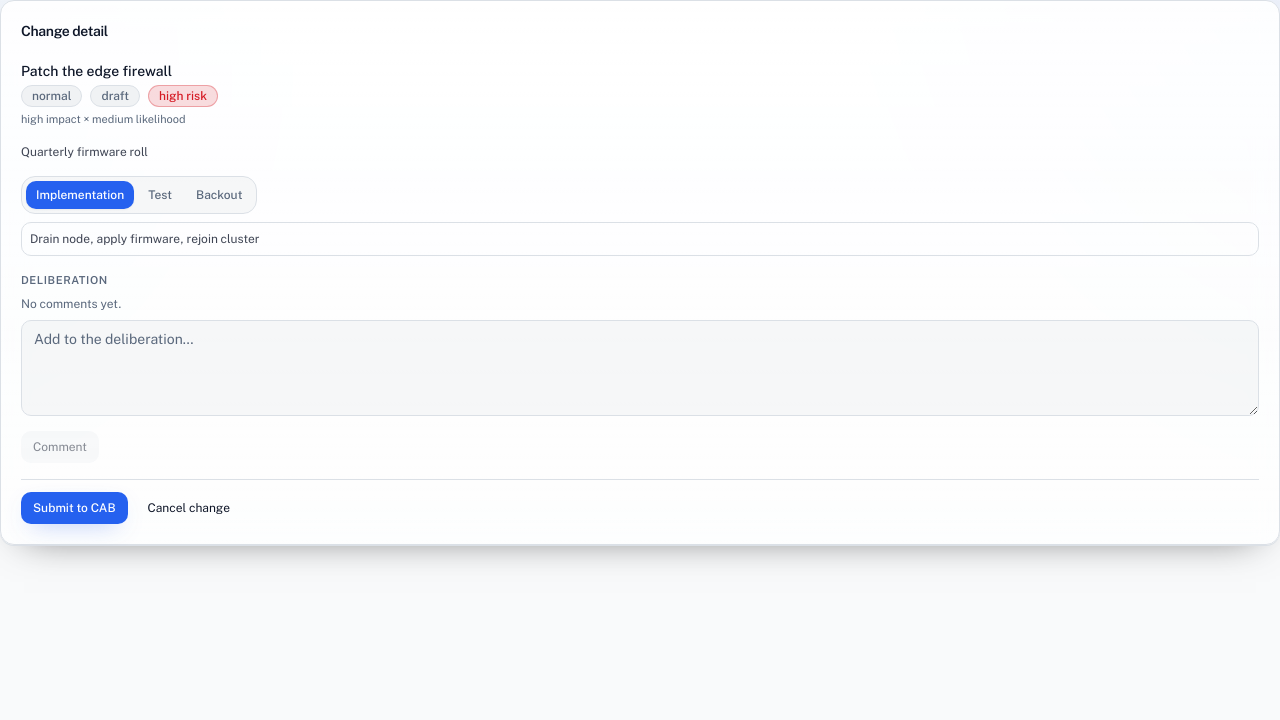
Test case: ChangeDetail › switches between the implementation, test and backout plans
Expected: the text "Drain node, apply firmware, rejoin cluster" is shown, [30,232,259,246]
Click the tab "Test": (160, 194) [138,180,182,208]
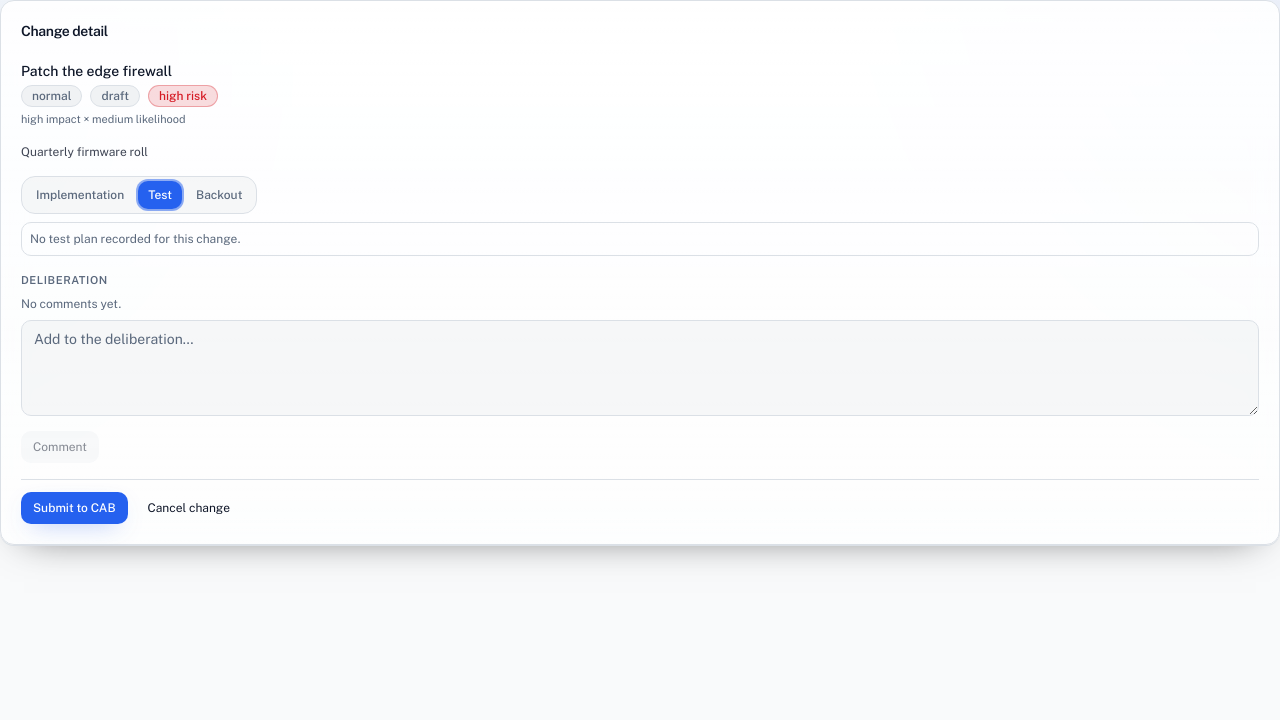
Expected: the text "No test plan recorded for this change." is shown, [30,232,241,246]
Click the tab "Backout": (219, 194) [186,180,252,208]
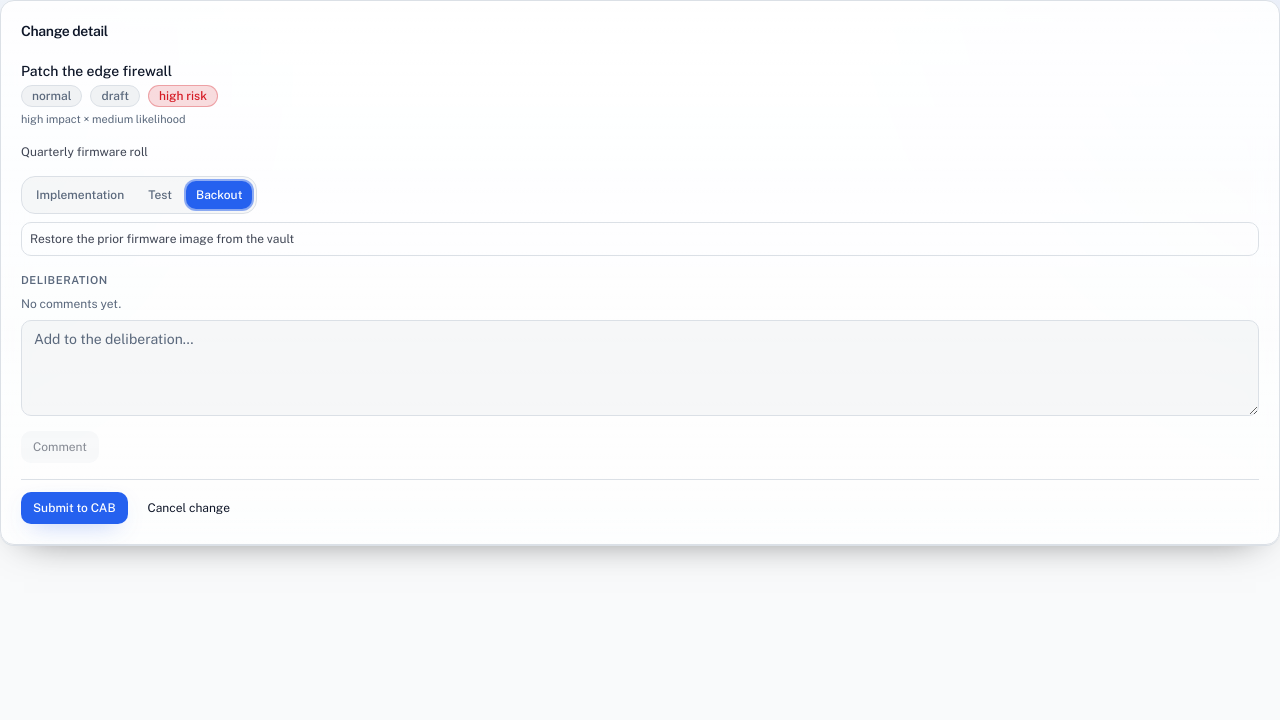
Expected: the text "Restore the prior firmware image from the vault" is shown, [30,232,294,246]
